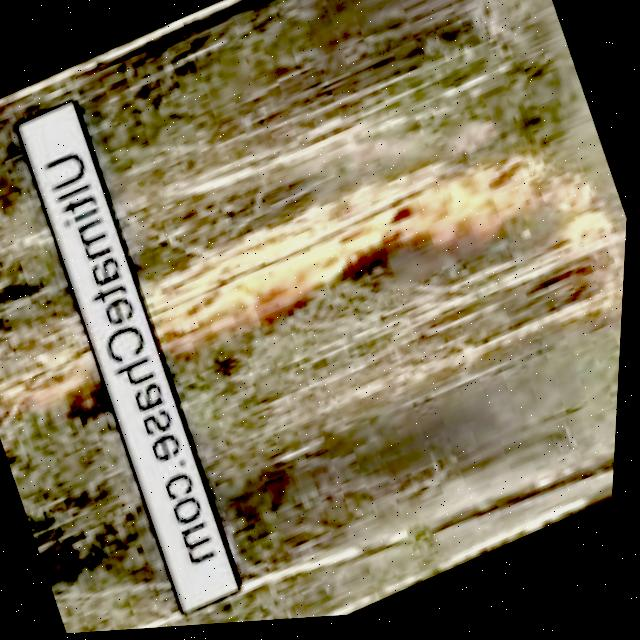Fire: (152, 169, 443, 351), (424, 109, 626, 318), (0, 338, 98, 421)
